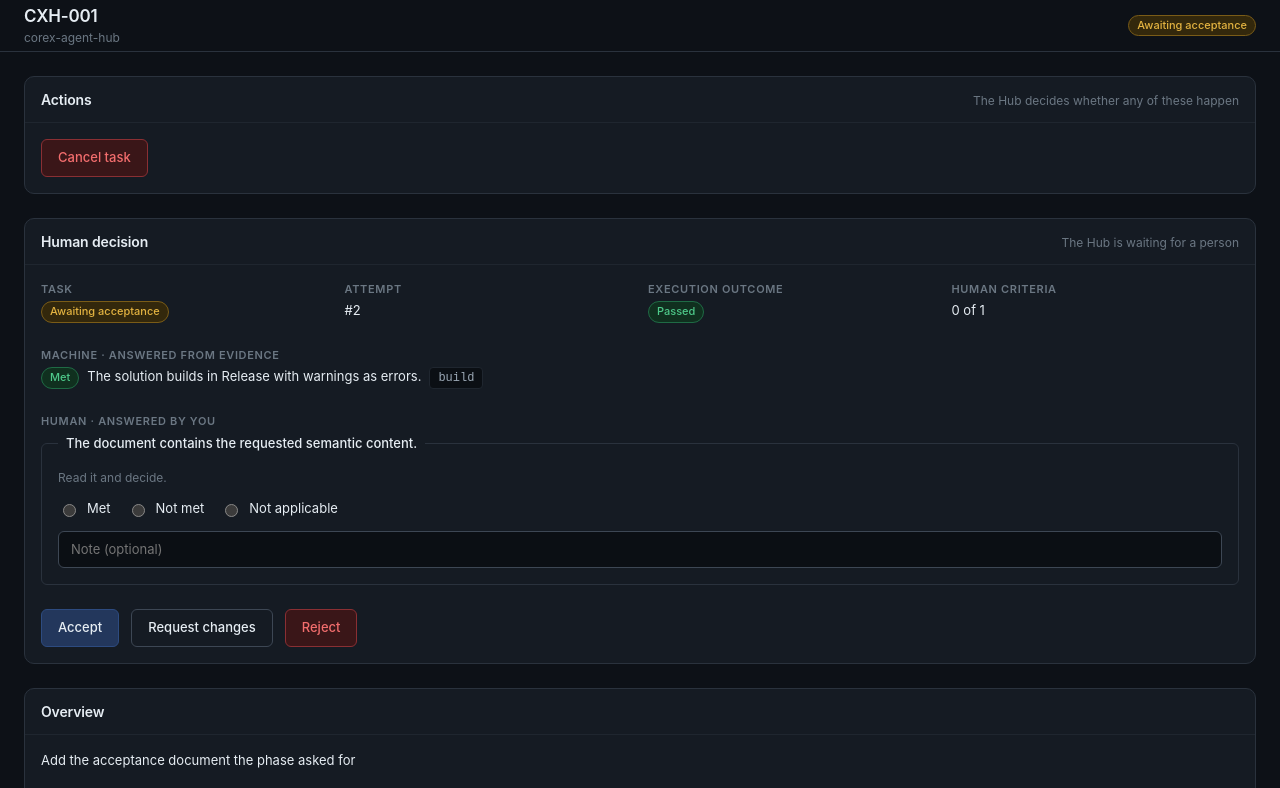
Test: Human governance › will not ask to accept until every criterion is answered
This screenshot has width=1280, height=788.
Click the button "Accept" at (80, 628), box 41,609 -> 119,647
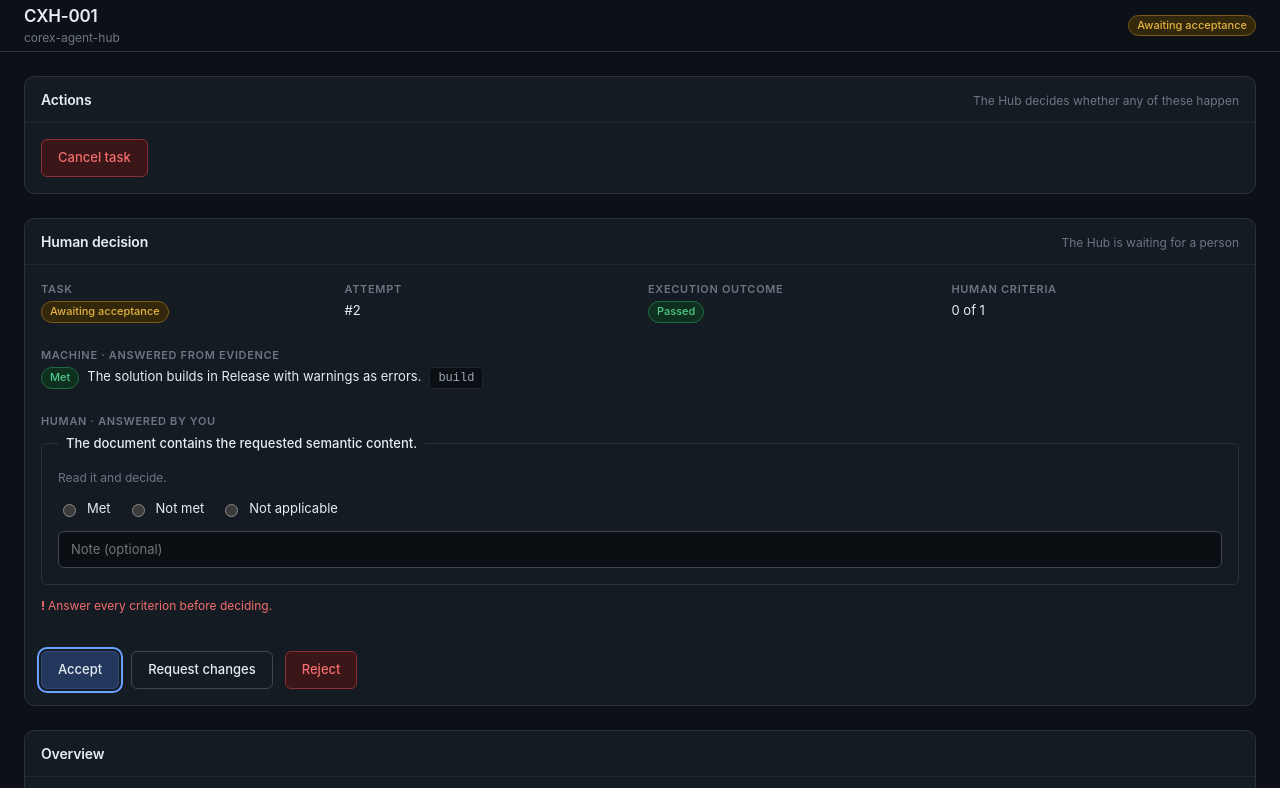
Expected: the text "Answer every criterion before deciding." is shown, 48,598 -> 272,613
